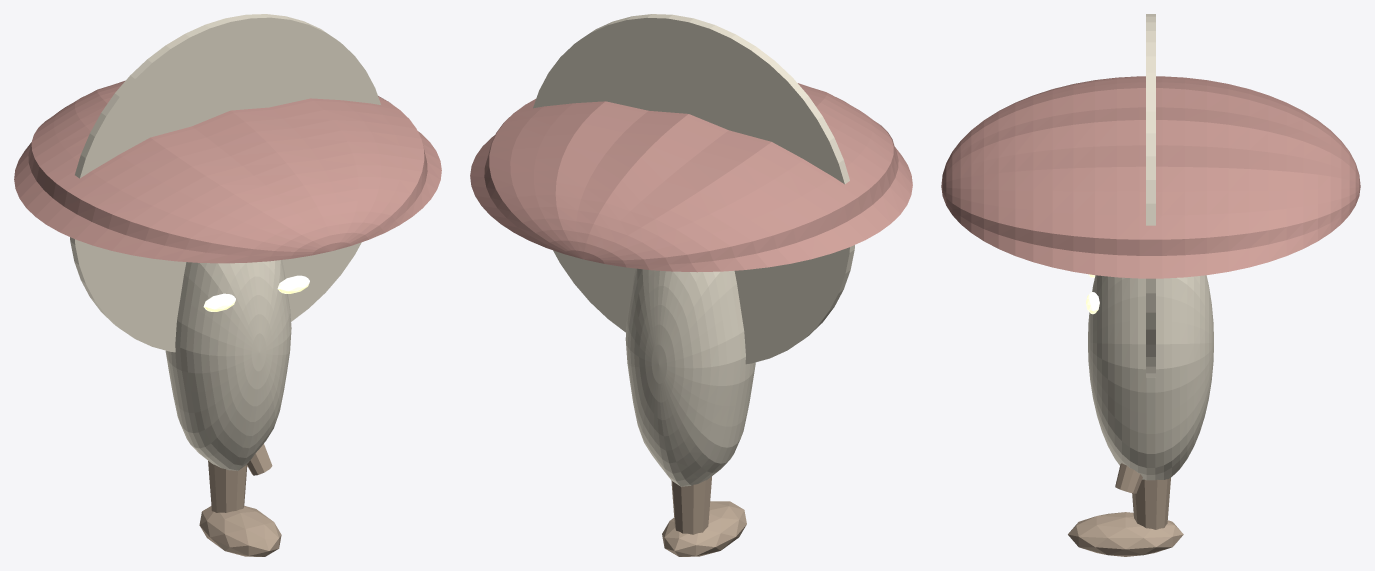
File: resident_mushroom.glb
3 renders of one model, left to right at view 1: azimuth 30°, elevation 25°; view 2: azimuth 150°, elevation 25°; view 3: azimuth 270°, elevation 25°, orthographic. The views are drawn at different scales.
Visible parts, largest first — view 1: cap, gills, body, leg; view 2: cap, gills, body, leg; view 3: cap, body, leg, gills, arm.
Boxes of the visible parts, x1,y1,x2,y2 form: cap: (14, 80, 441, 263); gills: (70, 14, 380, 352); body: (165, 260, 291, 470); leg: (199, 461, 281, 556); cap: (470, 83, 912, 272); gills: (533, 14, 854, 364); body: (625, 268, 755, 486); leg: (662, 476, 746, 556); cap: (941, 76, 1360, 278); body: (1088, 275, 1213, 480); leg: (1068, 478, 1183, 556); gills: (1146, 14, 1155, 377); arm: (1115, 463, 1142, 493).
Size of the model in its own units: 1.72 by 2.27 by 1.66.
